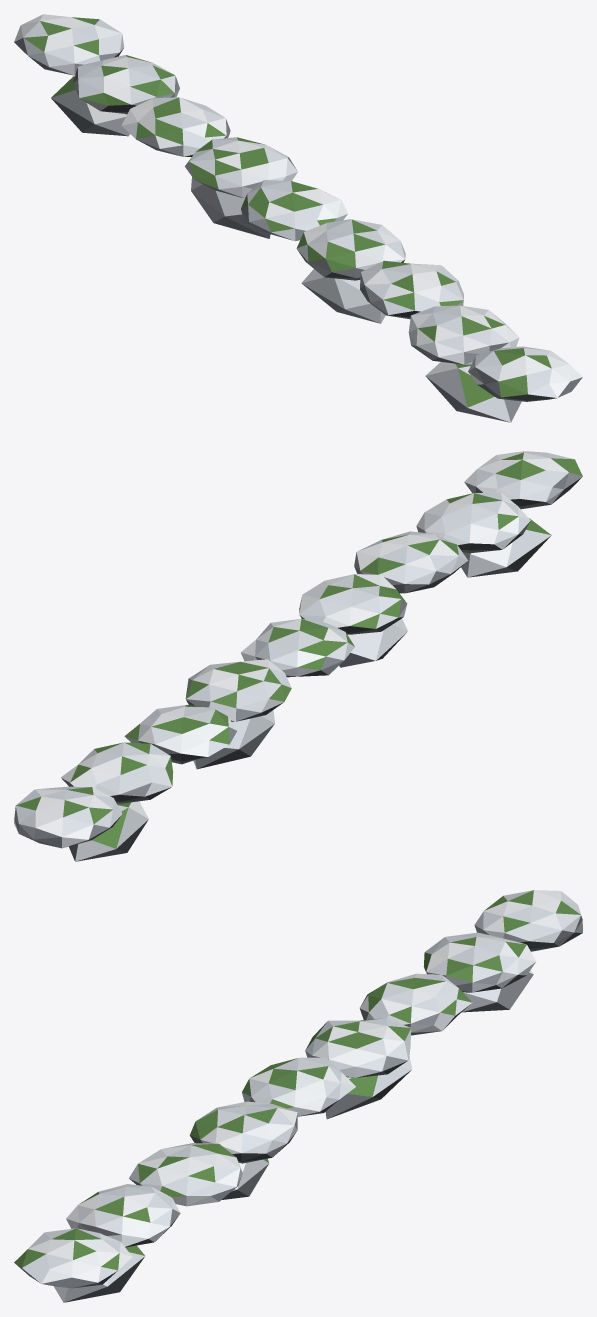
The model's file is LedgeWalk.obj.
3 views of the same model, one above another, from view 1: azimuth 30°, elevation 25°; view 2: azimuth 150°, elevation 25°; view 3: azimuth 330°, elevation 25° (orthographic). The views are drawn at different scales.
Size of the model in its own units: 1.35 by 0.995 by 12.21.
